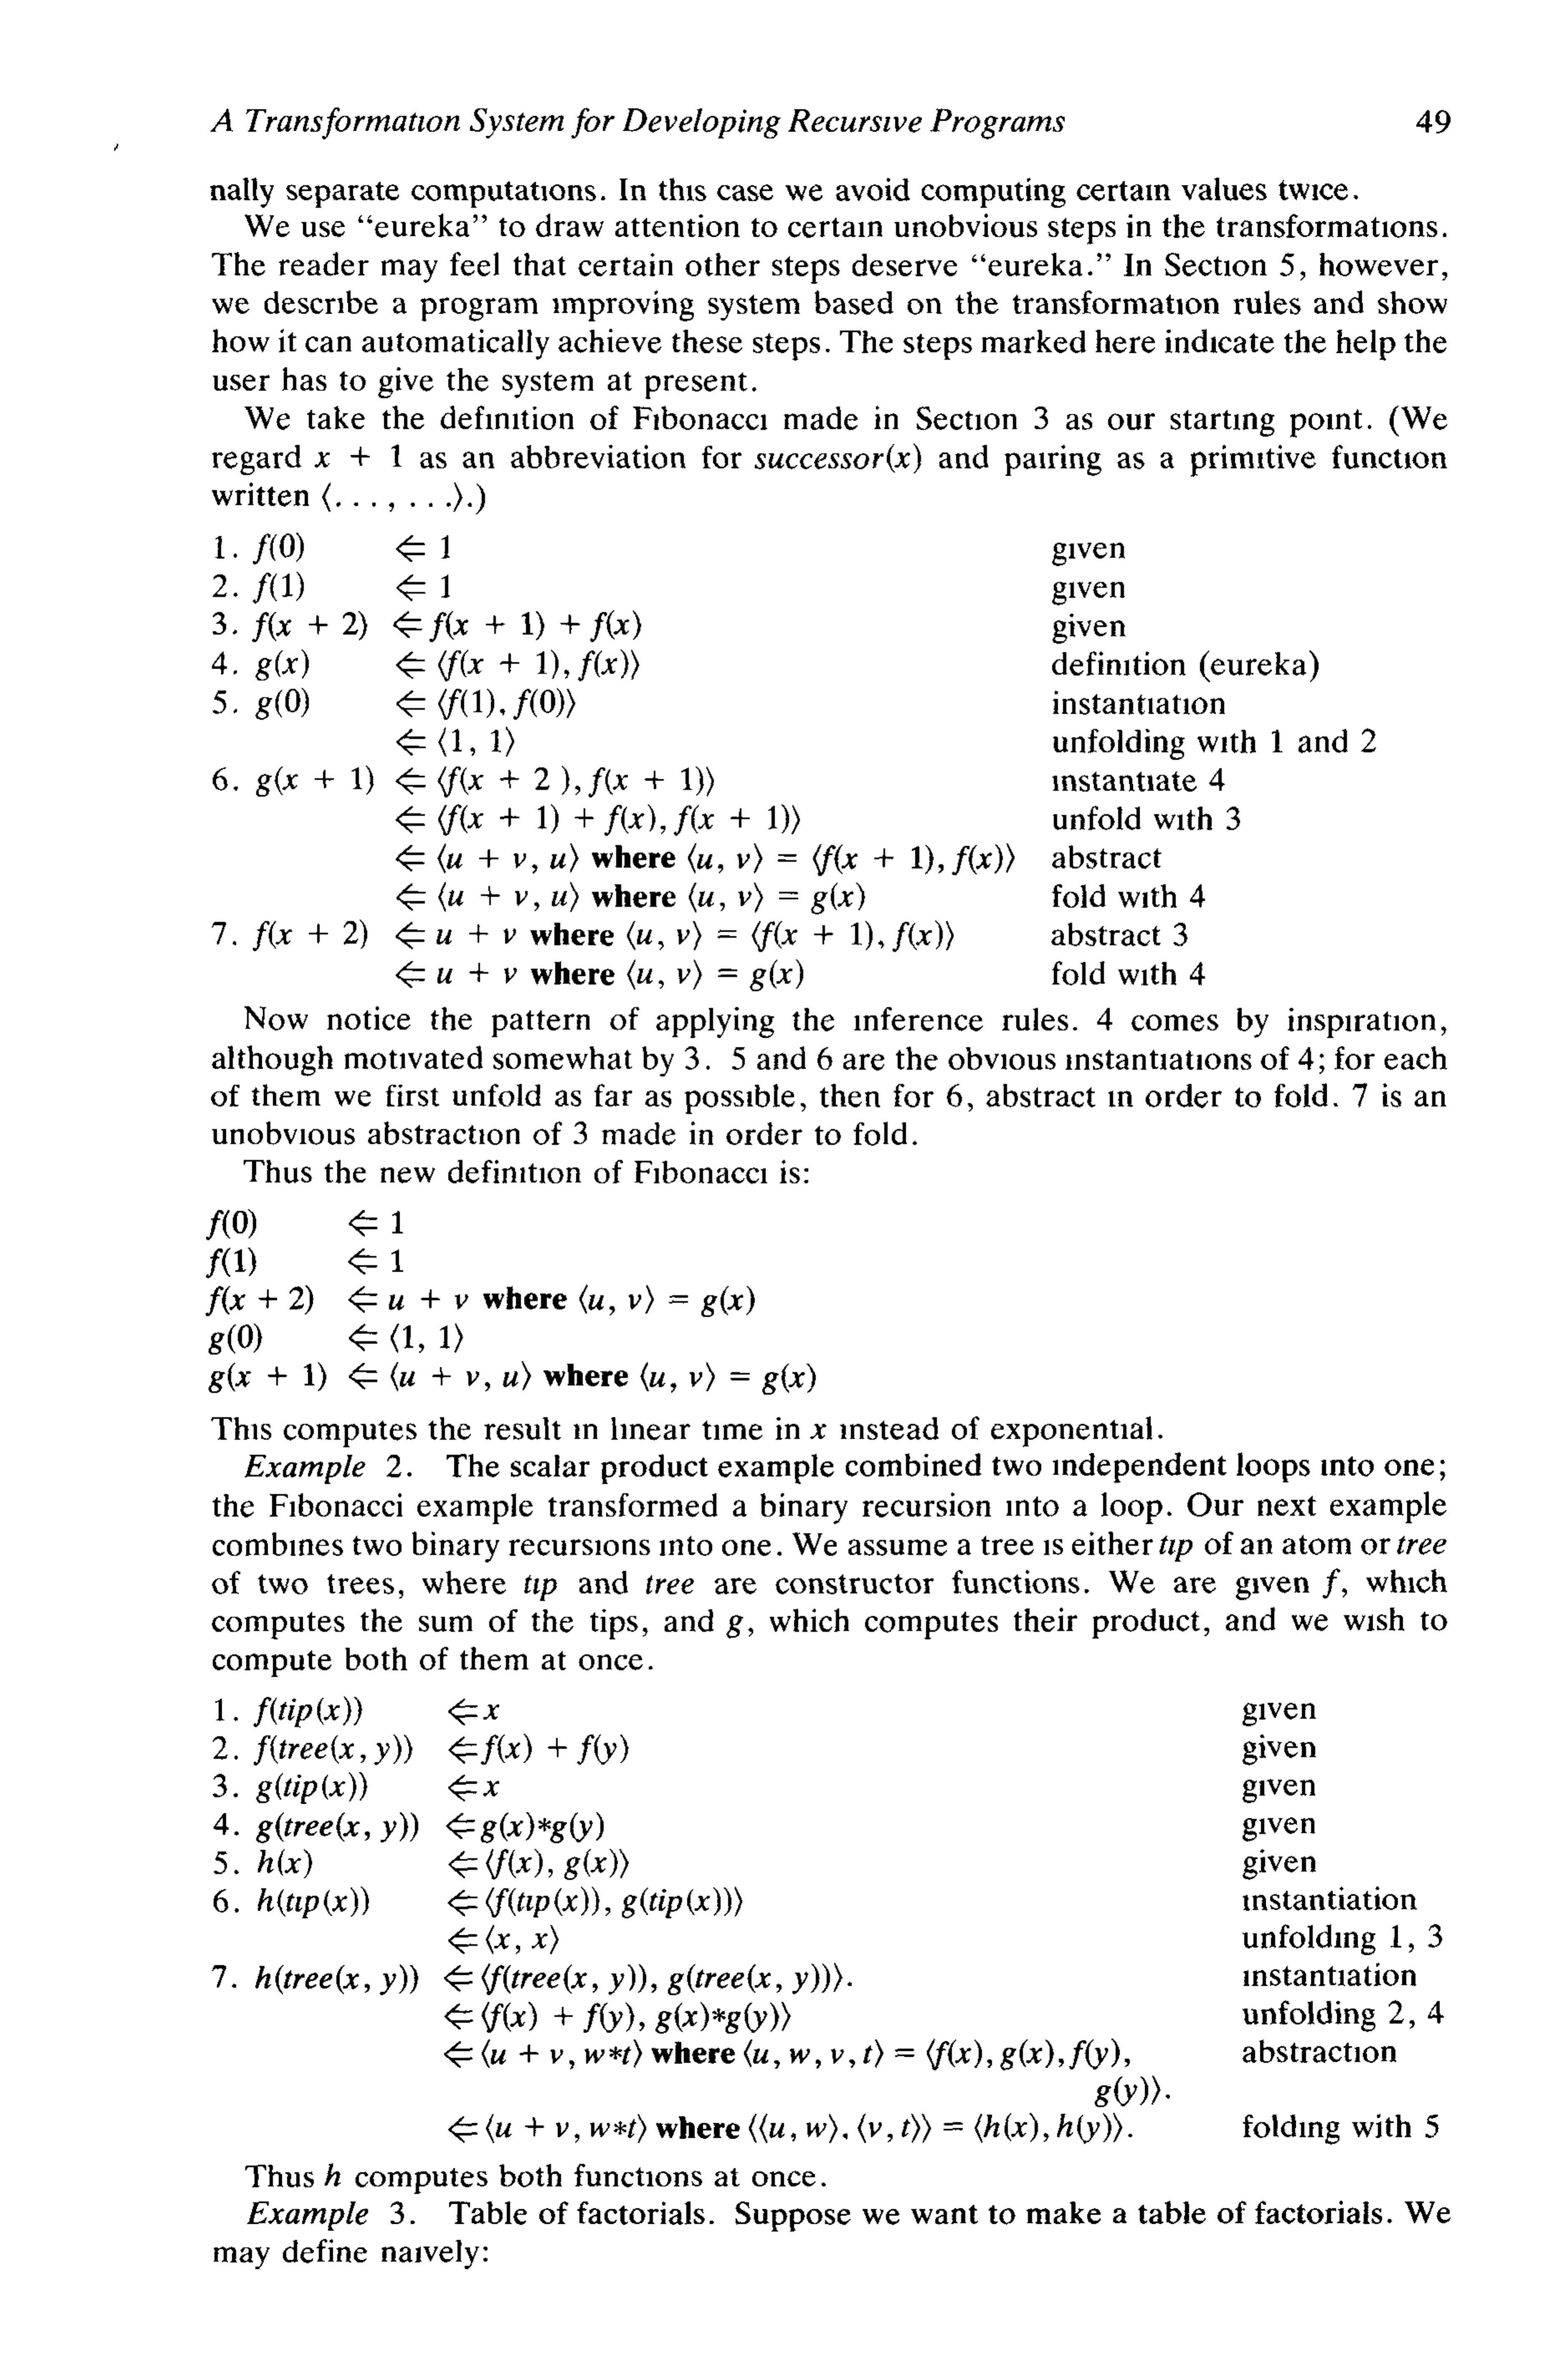maths: (255, 1962, 842, 1996), (259, 1887, 743, 1919), (252, 610, 641, 643), (257, 765, 580, 797), (395, 804, 666, 837), (208, 1361, 489, 1393), (676, 921, 884, 952), (738, 844, 944, 875), (444, 2003, 645, 2032), (449, 1733, 629, 1765), (395, 650, 570, 681), (257, 1812, 418, 1844), (446, 1812, 603, 1844), (755, 444, 921, 474), (253, 1735, 412, 1765), (902, 2113, 1049, 2142), (395, 844, 538, 874), (397, 882, 540, 912), (655, 2003, 790, 2034), (629, 1284, 755, 1318), (690, 1361, 816, 1394), (738, 882, 865, 914), (676, 959, 804, 991), (675, 804, 800, 835), (444, 2039, 575, 2069), (863, 2039, 993, 2069), (1000, 2039, 1120, 2071), (589, 767, 713, 797), (449, 2114, 580, 2142), (253, 919, 367, 951), (397, 727, 514, 757), (257, 1772, 367, 1803), (397, 688, 505, 720), (206, 1284, 315, 1316), (253, 1697, 362, 1728), (350, 1323, 463, 1353), (449, 1849, 552, 1880), (395, 961, 517, 987), (395, 923, 516, 949), (348, 1286, 468, 1312), (806, 2114, 893, 2142), (315, 444, 402, 468), (322, 482, 393, 512), (1094, 2076, 1161, 2107), (565, 1849, 629, 1880), (1057, 2113, 1122, 2144), (449, 1926, 521, 1954), (579, 650, 640, 681), (514, 688, 575, 720), (953, 844, 1014, 875), (893, 921, 954, 952), (255, 688, 309, 720), (208, 1323, 262, 1354), (253, 571, 304, 605), (584, 2039, 641, 2067), (255, 650, 309, 680), (259, 1849, 313, 1878), (253, 533, 304, 564), (206, 1209, 257, 1241), (206, 1248, 257, 1279), (395, 535, 451, 563), (591, 2114, 647, 2142), (411, 482, 463, 512), (350, 1209, 404, 1237), (348, 1248, 404, 1274), (397, 575, 451, 601), (449, 1699, 500, 1725), (449, 1775, 500, 1802), (750, 2114, 795, 2142), (640, 1361, 676, 1393), (580, 1284, 615, 1316), (689, 882, 725, 912), (627, 921, 664, 951), (627, 959, 664, 989), (689, 844, 724, 874), (745, 2039, 780, 2069), (1159, 1532, 1192, 1562), (1396, 1536, 1445, 1555), (503, 1361, 531, 1391), (551, 844, 579, 872), (531, 1926, 559, 1954), (552, 882, 579, 912), (790, 2048, 821, 2069), (1323, 1567, 1341, 1599), (830, 2048, 855, 2067), (727, 1615, 743, 1639), (325, 2163, 341, 2186), (809, 1424, 827, 1438)
